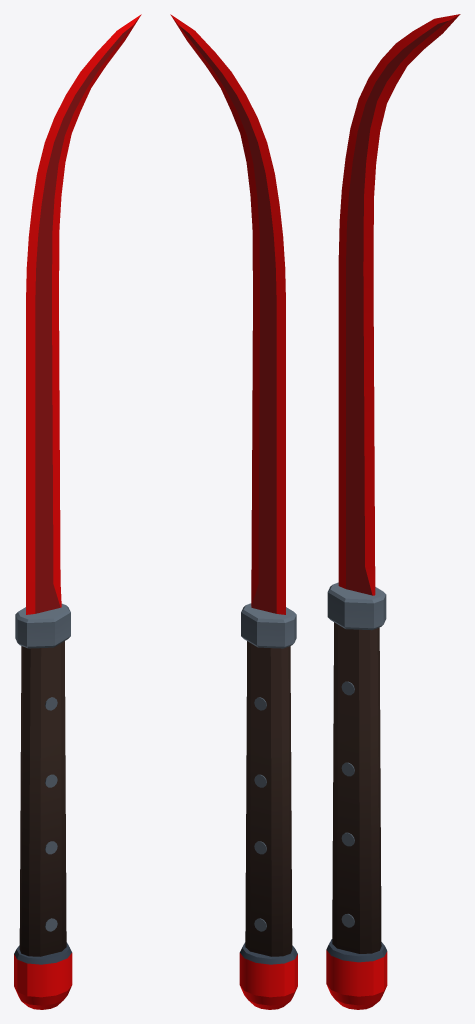
File: SM_Sword06_Falx_5FantasyRed.fbx
The picture shows the model from 3 angles, left to right: view 1: azimuth 30°, elevation 25°; view 2: azimuth 150°, elevation 25°; view 3: azimuth 330°, elevation 25°; orthographic projection. The views are drawn at different scales.
Visible parts, largest first — view 1: Cube.493, Cylinder.630, Sphere.171, Cylinder.629, Cylinder.631; view 2: Cube.493, Cylinder.630, Sphere.171, Cylinder.629, Cylinder.631; view 3: Cube.493, Cylinder.630, Sphere.171, Cylinder.629, Cylinder.631.
Boxes of the visible parts, box(x1,y1,x2,y2) form: Cube.493: box(26, 14, 141, 614); Cylinder.630: box(19, 641, 66, 956); Sphere.171: box(14, 942, 72, 1009); Cylinder.629: box(15, 603, 70, 648); Cylinder.631: box(45, 697, 57, 931); Cube.493: box(170, 14, 285, 614); Cylinder.630: box(245, 641, 292, 956); Sphere.171: box(239, 942, 297, 1009); Cylinder.629: box(241, 603, 296, 648); Cylinder.631: box(254, 697, 266, 931); Cube.493: box(338, 14, 460, 595); Cylinder.630: box(332, 622, 381, 953); Sphere.171: box(326, 939, 387, 1009); Cylinder.629: box(327, 582, 386, 630); Cylinder.631: box(341, 681, 354, 927).
Bounding box in the file's own units: 0.1292 × 0.9601 × 0.0472.
